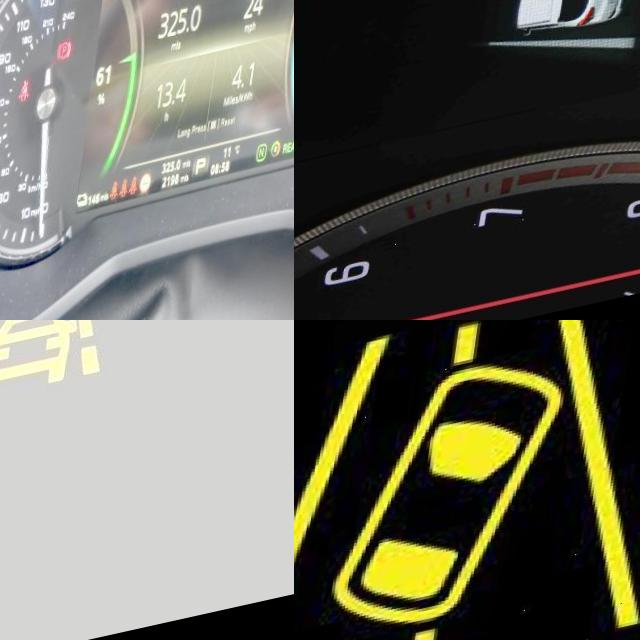Seat Belt: (25, 86, 40, 110)
